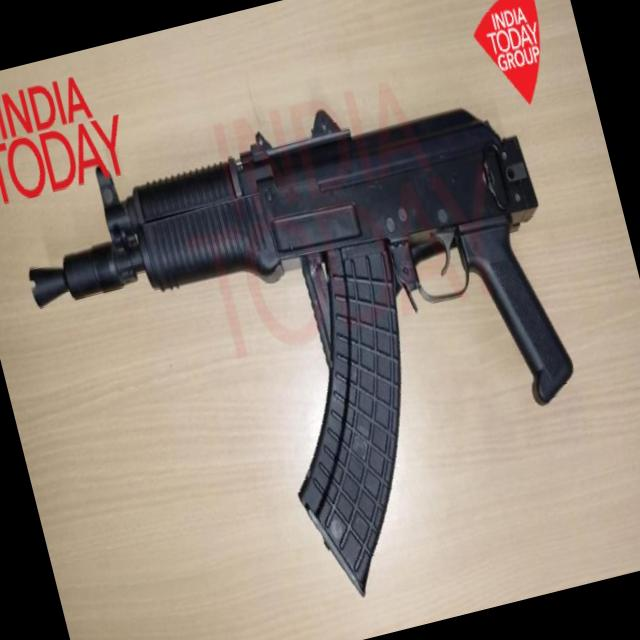Weapon: (3, 71, 620, 640)
